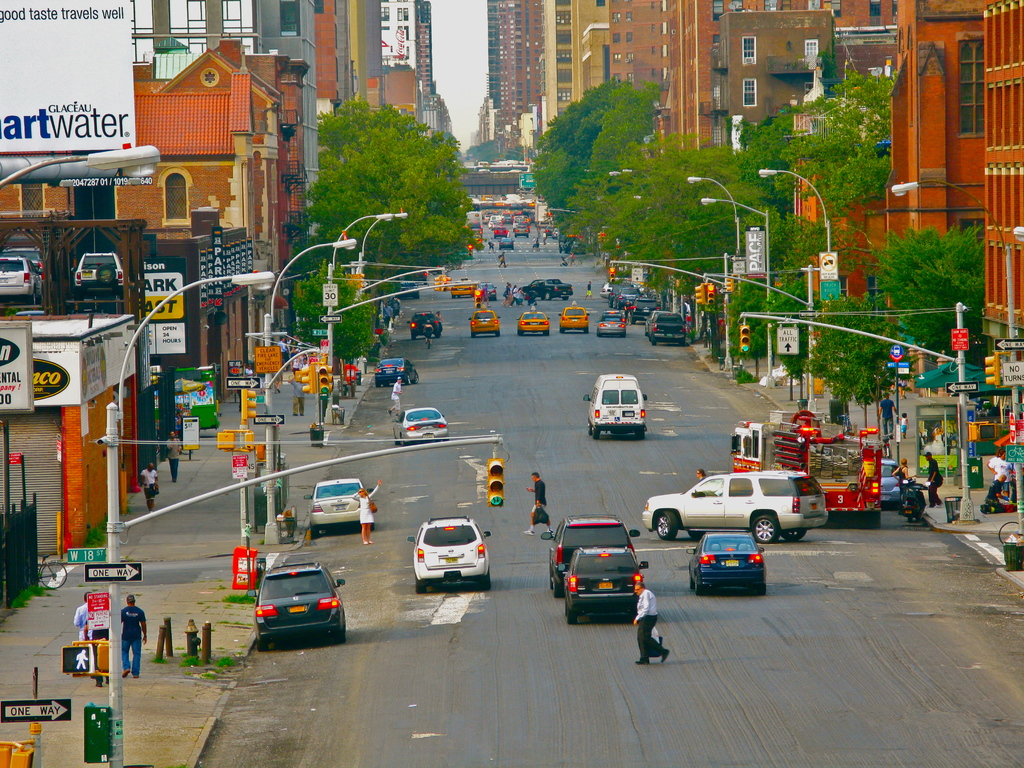Car: (547, 513, 641, 594), (254, 562, 343, 643), (560, 543, 640, 625), (405, 517, 489, 586), (683, 535, 759, 594), (385, 398, 456, 451), (311, 476, 363, 528), (641, 308, 688, 344), (522, 277, 576, 302), (371, 356, 417, 384), (405, 311, 442, 339), (514, 309, 551, 337), (468, 304, 497, 339), (556, 305, 590, 329), (596, 312, 627, 336), (451, 277, 481, 298), (514, 224, 531, 236)
